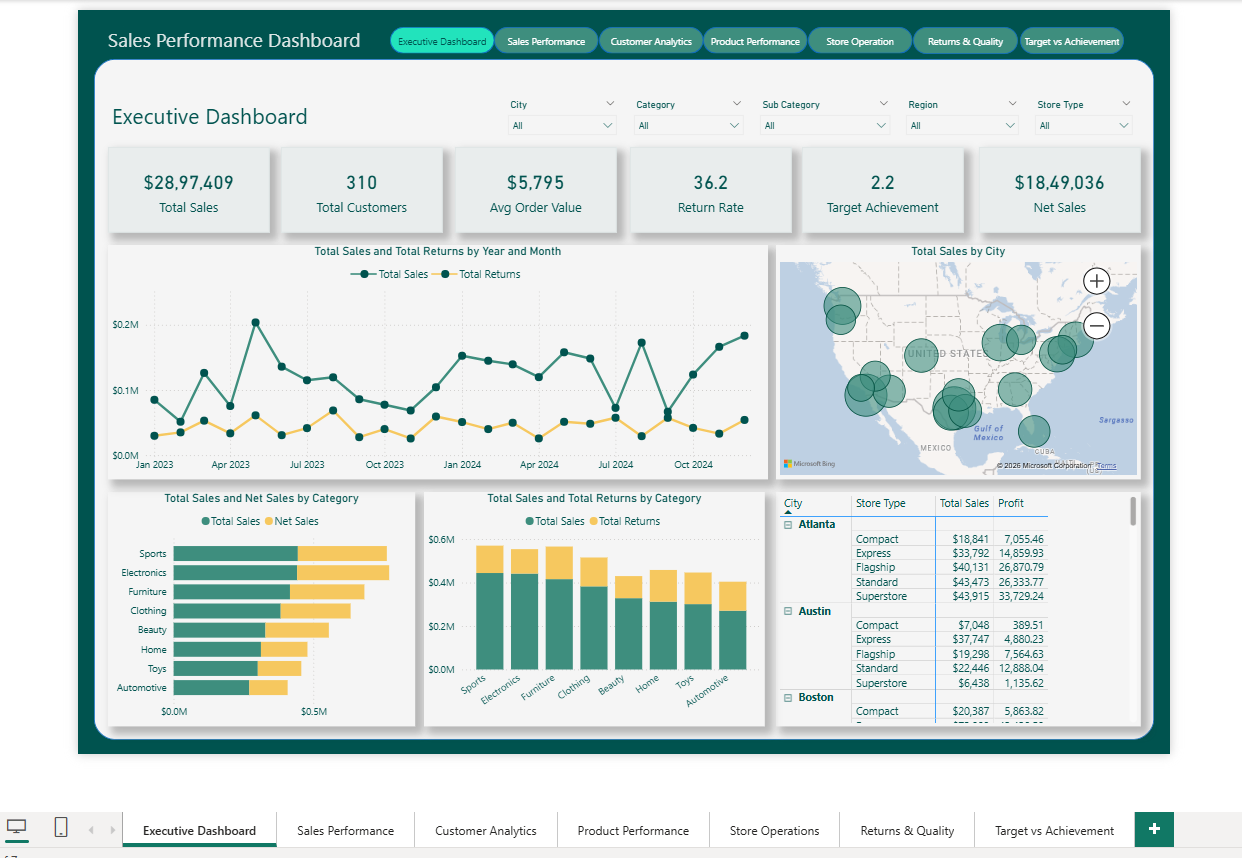

The dashboard page shown, as its layout file describes it:
{"tool":"powerbi","page":{"name":"Executive Dashboard","canvas":[1365,930],"ordinal":0},"visuals":[{"type":"shape","box":[390.6,21.6,130.6,33.2],"z":0,"group":"g3"},{"type":"shape","box":[19.5,61.8,1325.1,851],"z":0},{"type":"slicer","fields":{"Values":["Customer.City"]},"box":[528,106.5,155.7,57.9],"z":0,"group":"g1"},{"type":"card","title":"Total Sales","fields":{"Values":["All Measures.Total Sales"]},"box":[37.8,171.8,201.8,106.5],"z":0,"group":"g2"},{"type":"shape","box":[521.2,21.6,130.6,33.2],"z":1000,"group":"g3"},{"type":"group","id":"g1","title":"Group 1","box":[528,106.5,800.6,57.3],"z":1000},{"type":"slicer","fields":{"Values":["Product.Category"]},"box":[685.9,106.5,156.8,57.9],"z":1000,"group":"g1"},{"type":"card","title":"Total Sales","fields":{"Values":["All Measures.Total Customers"]},"box":[253.9,171.8,201.8,106.5],"z":1000,"group":"g2"},{"type":"shape","box":[651.7,21.6,130.6,33.2],"z":2000,"group":"g3"},{"type":"slicer","fields":{"Values":["Store.Region"]},"box":[1025.3,106.5,161.3,57.9],"z":2000,"group":"g1"},{"type":"textbox","box":[37.5,109.3,257.1,52.5],"z":2000},{"type":"card","title":"Total Sales","fields":{"Values":["All Measures.Avg Order Value"]},"box":[471.2,171.8,201.8,106.5],"z":2000,"group":"g2"},{"type":"shape","box":[782.3,21.6,130.6,33.2],"z":3000,"group":"g3"},{"type":"slicer","fields":{"Values":["Store.StoreType"]},"box":[1186.6,106.5,142.2,57.9],"z":3000,"group":"g1"},{"type":"group","id":"g2","title":"Group 2","box":[37.8,171.8,1290.8,106.5],"z":3000},{"type":"card","title":"Total Sales","fields":{"Values":["All Measures.Return Rate"]},"box":[689.8,171.8,201.8,106.5],"z":3000,"group":"g2"},{"type":"shape","box":[37.8,19.5,333.3,36.7],"z":4000},{"type":"shape","box":[912.9,21.6,130.6,33.2],"z":4000,"group":"g3"},{"type":"slicer","fields":{"Values":["Product.SubCategory"]},"box":[842.7,106.5,182.6,57.9],"z":4000,"group":"g1"},{"type":"card","title":"Total Sales","fields":{"Values":["All Measures.Target Achievement"]},"box":[905.9,171.8,201.8,106.5],"z":4000,"group":"g2"},{"type":"shape","box":[1044.4,21.6,131.2,33.8],"z":5000,"group":"g3"},{"type":"card","title":"Total Sales","fields":{"Values":["All Measures.Net Sales"]},"box":[1126.8,171.8,201.8,106.5],"z":5000,"group":"g2"},{"type":"barChart","fields":{"Category":["Product.Category"],"Y":["All Measures.Total Sales","All Measures.Net Sales"]},"box":[37.8,602.4,383.7,293.2],"z":5000},{"type":"shape","box":[1178.1,21.6,130,33.8],"z":6000,"group":"g3"},{"type":"lineChart","fields":{"Y":["All Measures.Total Sales","All Measures.Total Returns"],"Category":["Date.Date.Variation.Date Hierarchy.Year","Date.Date.Variation.Date Hierarchy.Month"]},"box":[37.8,294.3,824.6,293.2],"z":6000},{"type":"map","fields":{"Size":["All Measures.Total Sales"],"Category":["Store.City"]},"box":[872.7,294.3,455.8,293.2],"z":7000},{"type":"pivotTable","fields":{"Rows":["Customer.City","Store.StoreType"],"Values":["All Measures.Total Sales","All Measures.Profit"]},"box":[872.7,602.4,455.8,293.2],"z":8000},{"type":"columnChart","fields":{"Y":["All Measures.Total Sales","All Measures.Total Returns"],"Category":["Product.Category"]},"box":[432.9,602.4,426.1,293.2],"z":9000},{"type":"group","id":"g3","title":"Group 3","box":[390.6,21.6,917.5,33.8],"z":9008}]}

Visuals, with their boxes on the page's 1365x930 design canvas (x1, y1, x2, y2). These are canvas units, not pixel positions in the 1242x858 screenshot, which may show the page scaled, cropped or inside an application window:
shape: bbox=[391, 22, 521, 55]
shape: bbox=[20, 62, 1345, 913]
slicer - Customer.City: bbox=[528, 106, 684, 164]
"Total Sales" card: bbox=[38, 172, 240, 278]
shape: bbox=[521, 22, 652, 55]
"Group 1" group: bbox=[528, 106, 1329, 164]
slicer - Product.Category: bbox=[686, 106, 843, 164]
"Total Sales" card: bbox=[254, 172, 456, 278]
shape: bbox=[652, 22, 782, 55]
slicer - Store.Region: bbox=[1025, 106, 1187, 164]
textbox: bbox=[38, 109, 295, 162]
"Total Sales" card: bbox=[471, 172, 673, 278]
shape: bbox=[782, 22, 913, 55]
slicer - Store.StoreType: bbox=[1187, 106, 1329, 164]
"Group 2" group: bbox=[38, 172, 1329, 278]
"Total Sales" card: bbox=[690, 172, 892, 278]
shape: bbox=[38, 20, 371, 56]
shape: bbox=[913, 22, 1044, 55]
slicer - Product.SubCategory: bbox=[843, 106, 1025, 164]
"Total Sales" card: bbox=[906, 172, 1108, 278]
shape: bbox=[1044, 22, 1176, 55]
"Total Sales" card: bbox=[1127, 172, 1329, 278]
barChart - Product.Category x All Measures.Total Sales: bbox=[38, 602, 422, 896]
shape: bbox=[1178, 22, 1308, 55]
lineChart - All Measures.Total Sales x All Measures.Total Returns: bbox=[38, 294, 862, 588]
map - All Measures.Total Sales x Store.City: bbox=[873, 294, 1328, 588]
pivotTable - Customer.City x Store.StoreType: bbox=[873, 602, 1328, 896]
columnChart - All Measures.Total Sales x All Measures.Total Returns: bbox=[433, 602, 859, 896]
"Group 3" group: bbox=[391, 22, 1308, 55]
